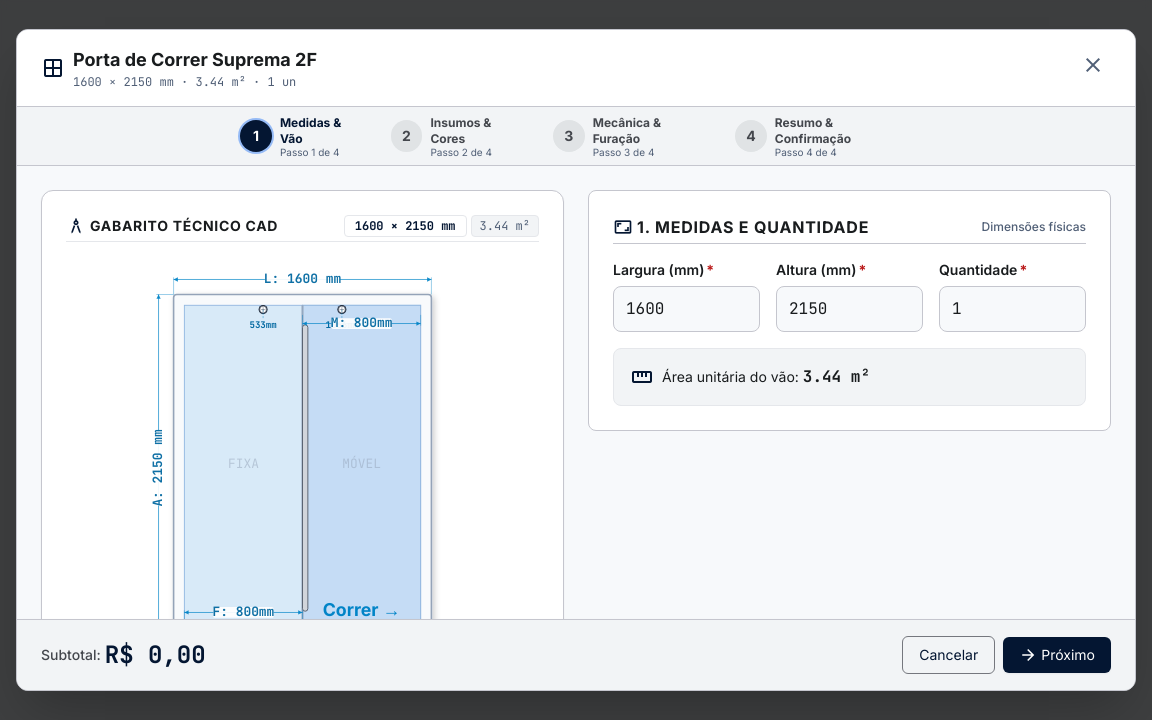
Test: WindowBuilderModal — [US-09.34] Alinhamento e Adição de Esquadrias ao Orçamento › deve permitir alterar largura, altura e quantidade no Step 1 e refletir no cabeçalho e cálculo
The width and height of the screenshot is (1152, 720).
Replace the text in the number field labelled "Largura (mm) *" with "2000" at (686, 309), box [613,286,760,332]
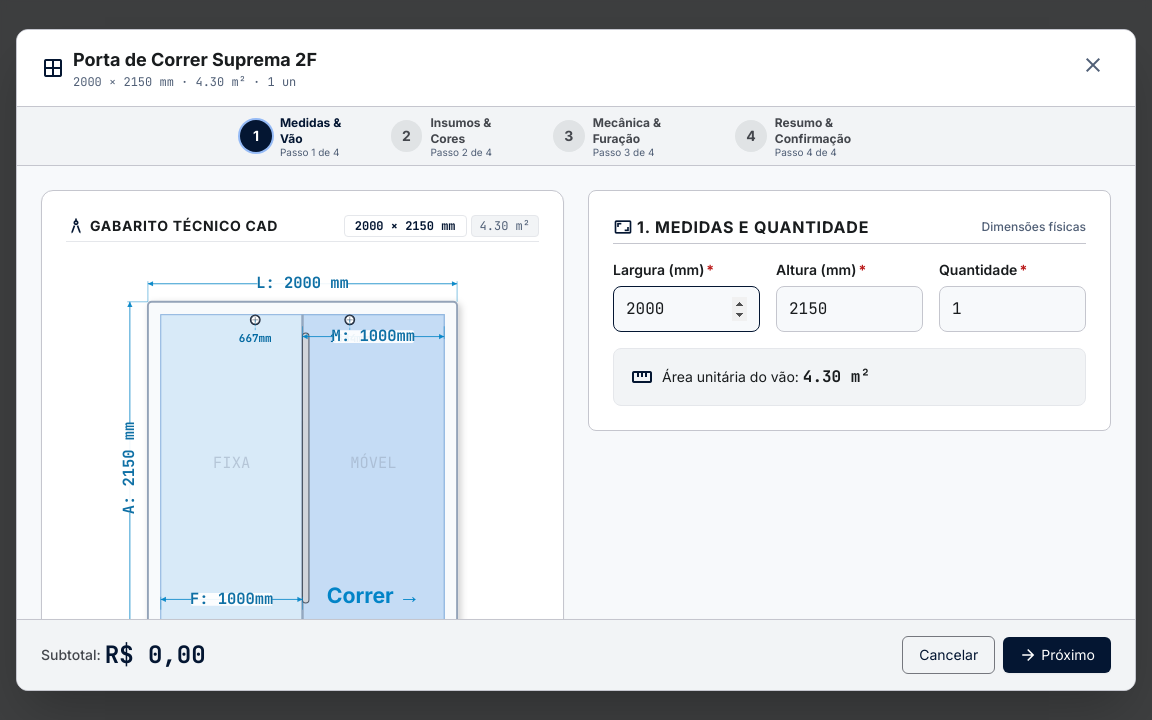
Replace the text in the number field labelled "Altura (mm) *" with "2200" at (850, 309), box [776,286,923,332]
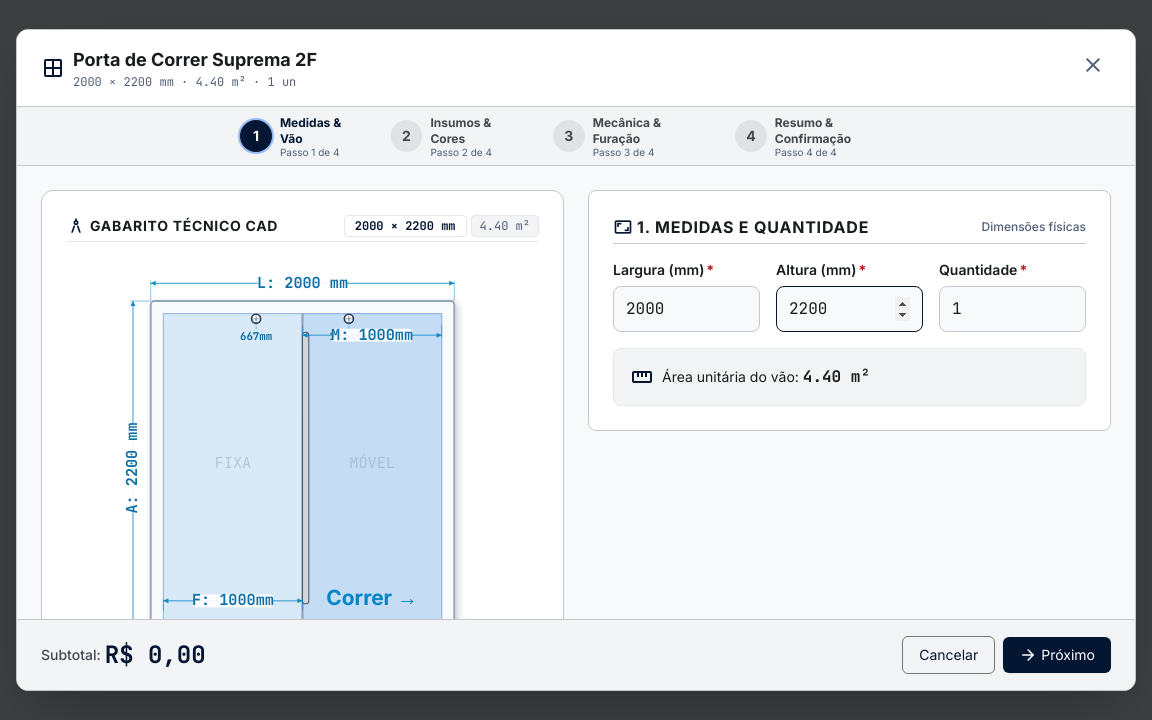
Replace the text in the number field labelled "Quantidade *" with "3" at (1012, 309), box [939,286,1086,332]
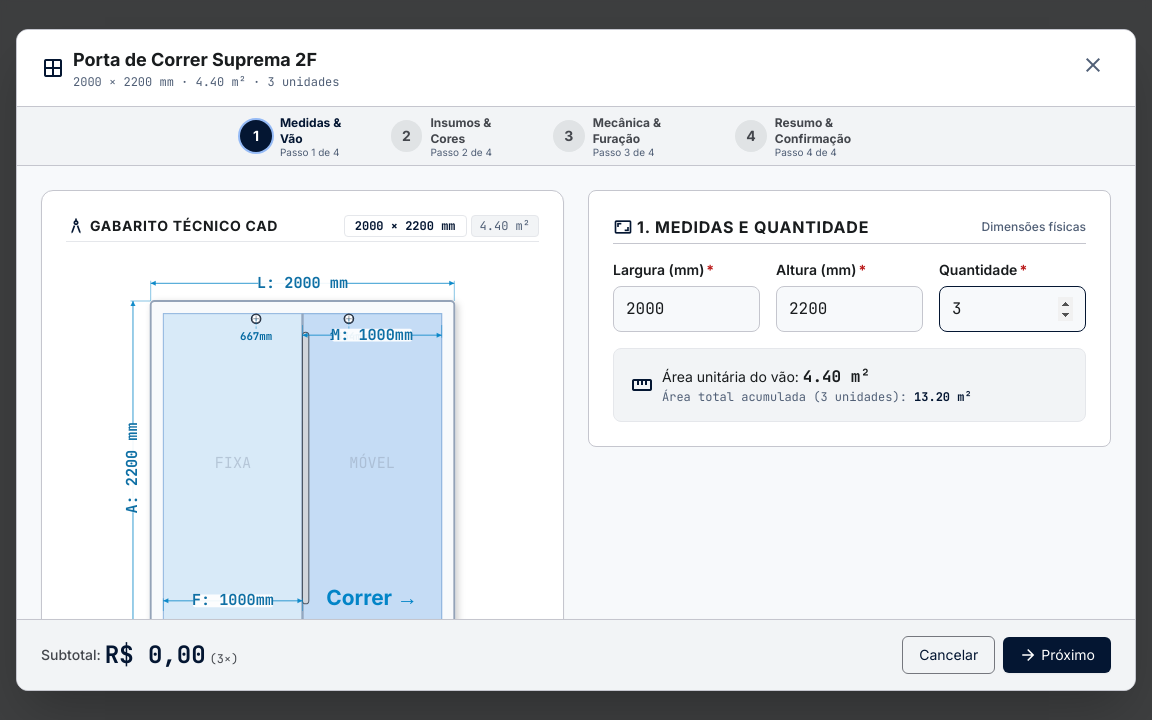
Result: the text "2000 × 2200 mm · 4.40 m² · 3 unidades" is shown at [73,74,340,90]
